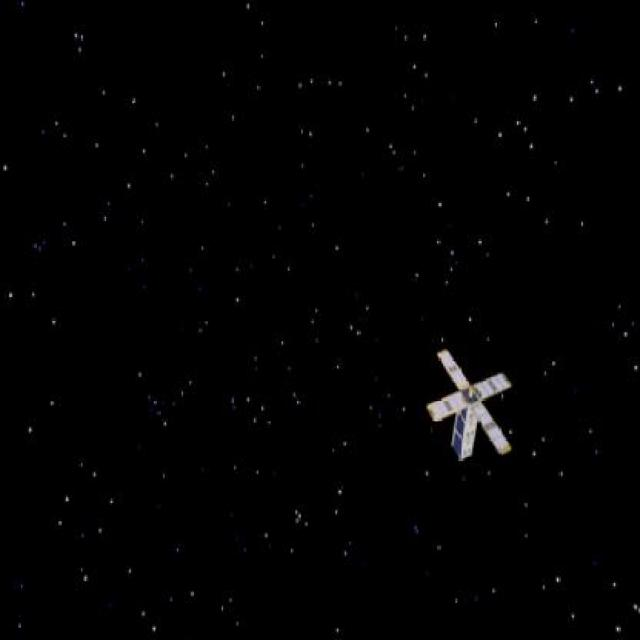medium_debris: (429, 354, 525, 465)
